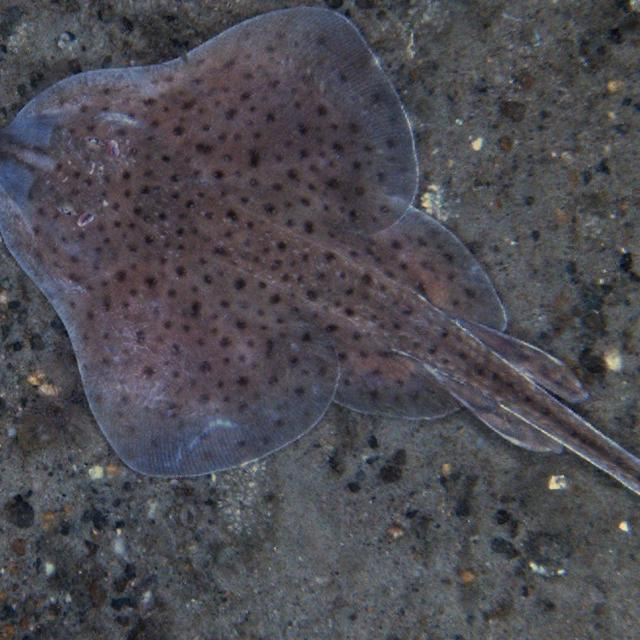skate: (10, 8, 640, 507)
